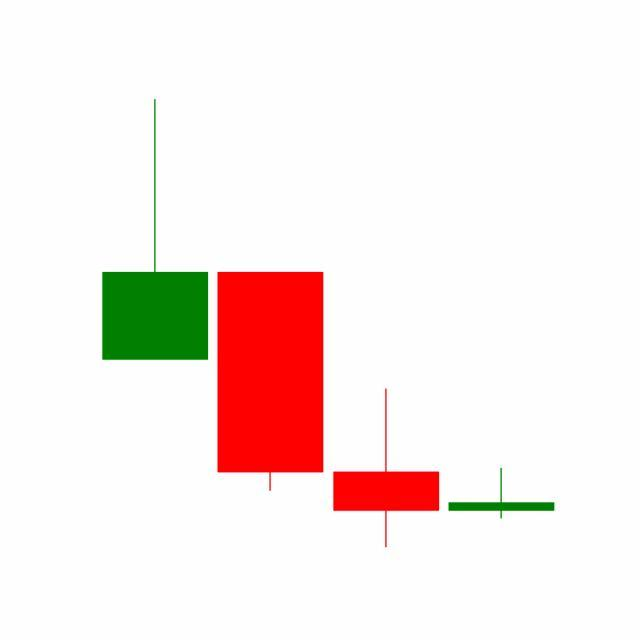Gravestone Doji: (444, 468, 560, 520)
